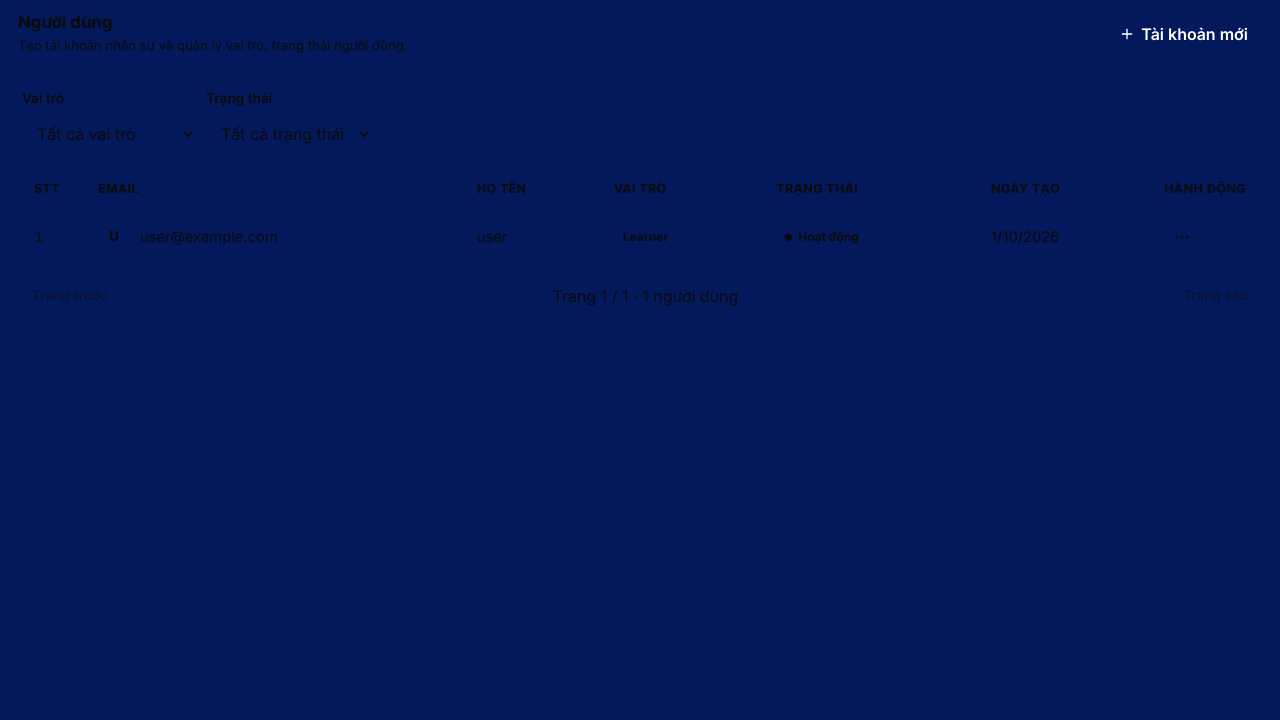
Test: user row menu › opens the login history of the chosen account
Click the button named "Hành động của user@example.com": point(1182, 237) 1164,219 -> 1200,255
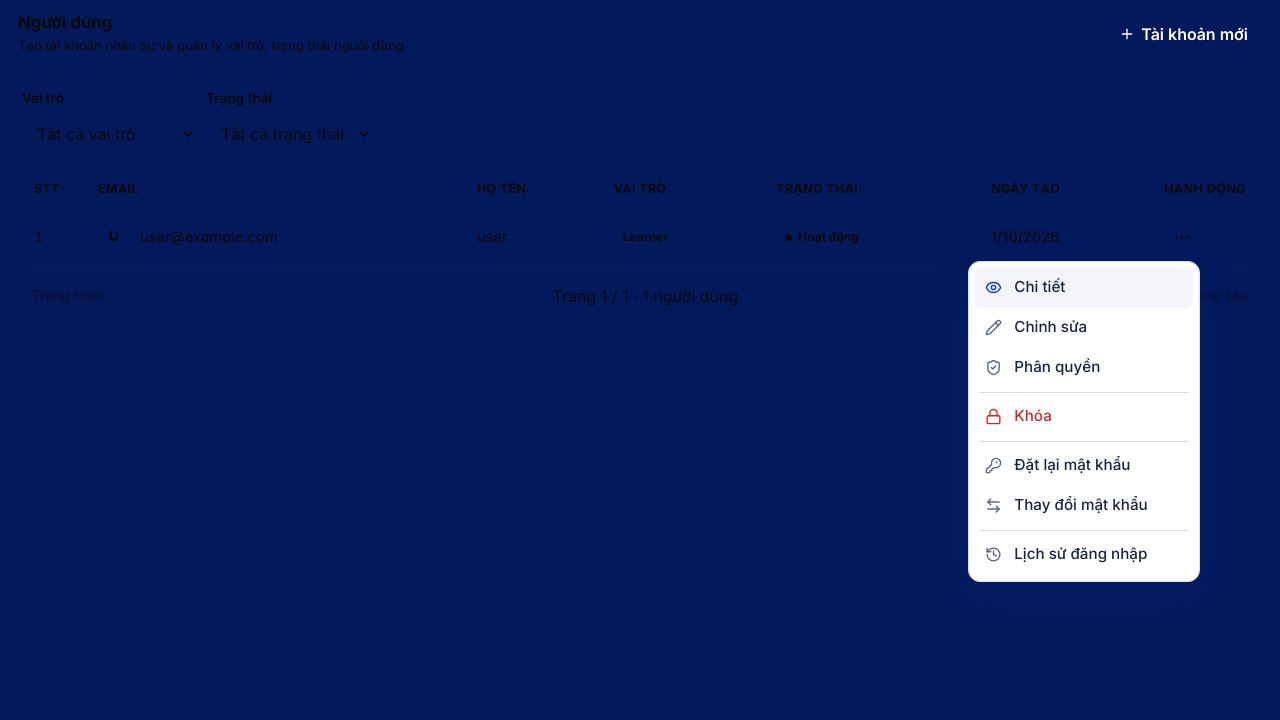
Click the menu item "Lịch sử đăng nhập": point(1084, 555) 975,535 -> 1193,575
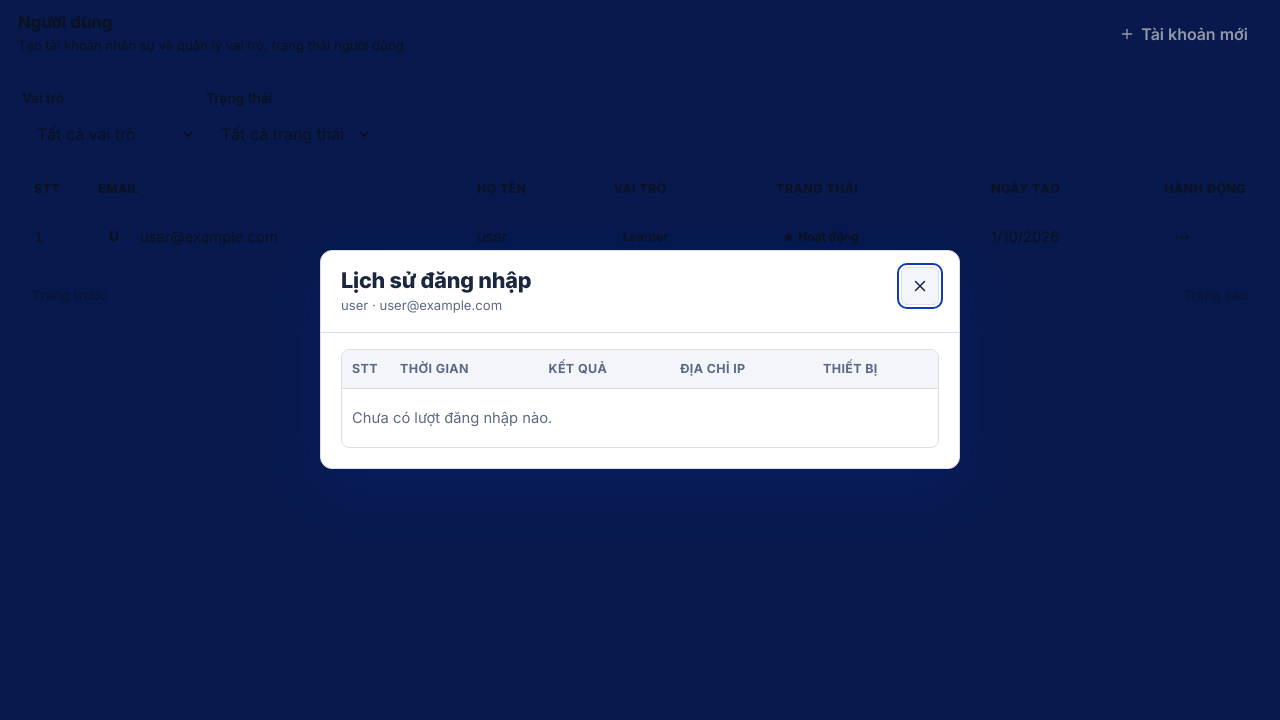
Expected: the dialog "Lịch sử đăng nhập" is shown, 320,250 -> 960,470
